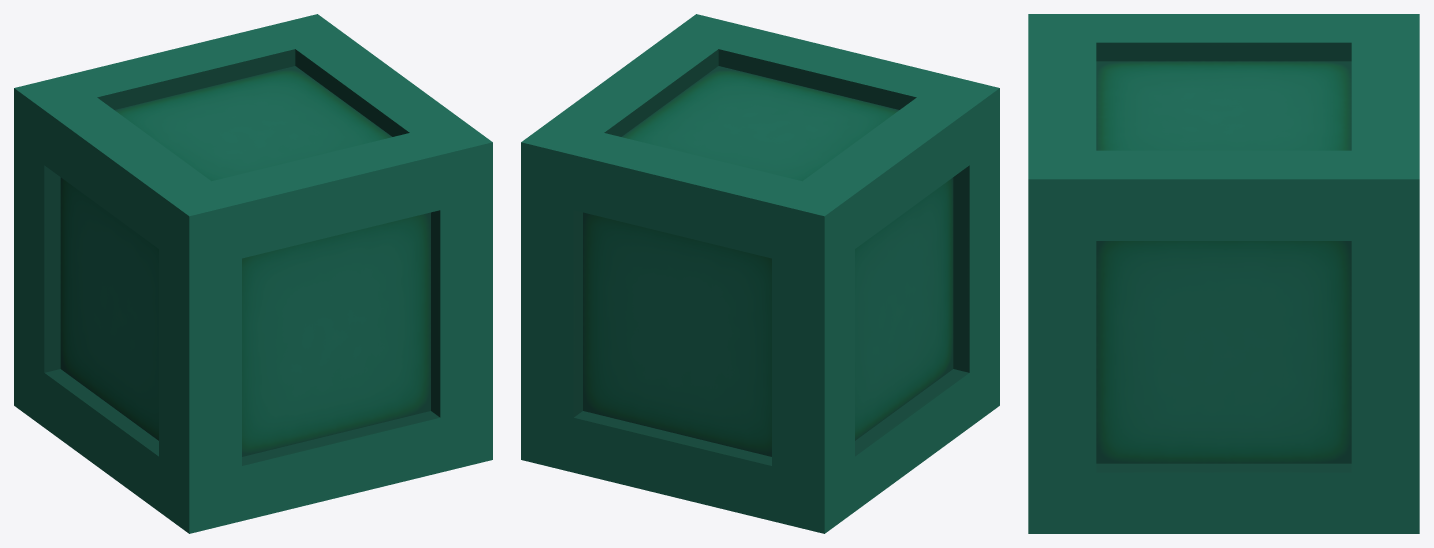
3 renders of one model, left to right at view 1: azimuth 30°, elevation 25°; view 2: azimuth 150°, elevation 25°; view 3: azimuth 270°, elevation 25°, orthographic. The views are drawn at different scales.
Visible parts, largest first — view 1: cube08_geo; view 2: cube08_geo; view 3: cube08_geo.
Boxes of the visible parts, x1,y1,x2,y2 form: cube08_geo: (14, 14, 492, 533); cube08_geo: (521, 14, 999, 533); cube08_geo: (1028, 14, 1419, 533).
Bounding box in the file's own units: 100 × 100 × 100.
1 material, 1 textured.
